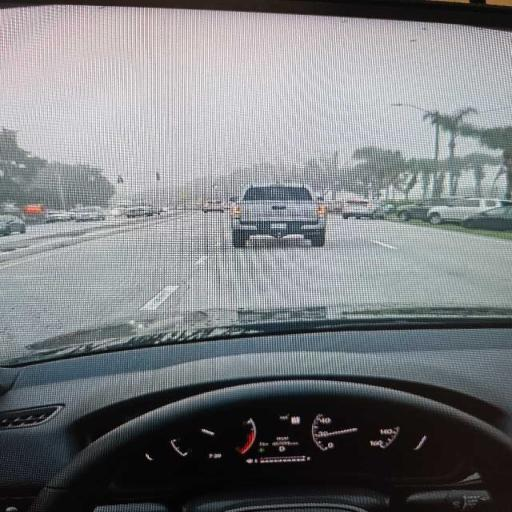car: (232, 185, 326, 247), (428, 198, 506, 223), (395, 198, 454, 221), (461, 205, 511, 231), (340, 199, 374, 219), (0, 215, 26, 235), (73, 207, 105, 221), (126, 205, 157, 217), (372, 203, 395, 219), (45, 210, 72, 223), (202, 198, 226, 212), (104, 207, 126, 217)
lane: (168, 217, 511, 310), (0, 212, 218, 351), (0, 211, 182, 250)
